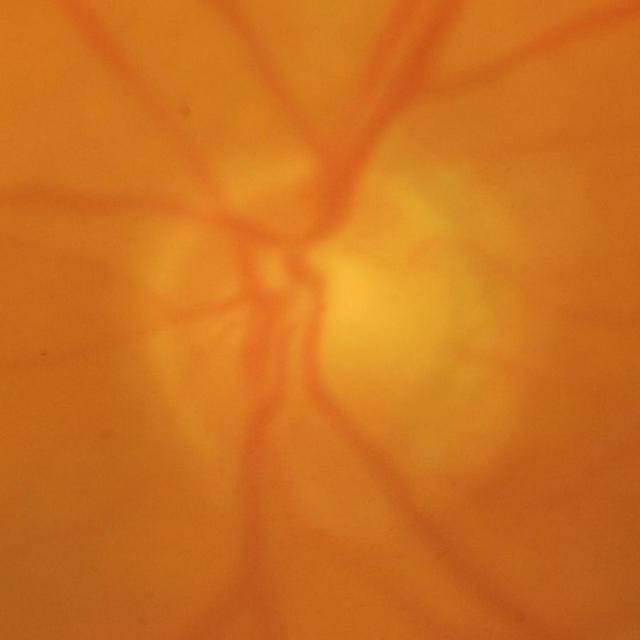OC: (239, 236, 372, 369)
OD: (140, 163, 499, 498)
